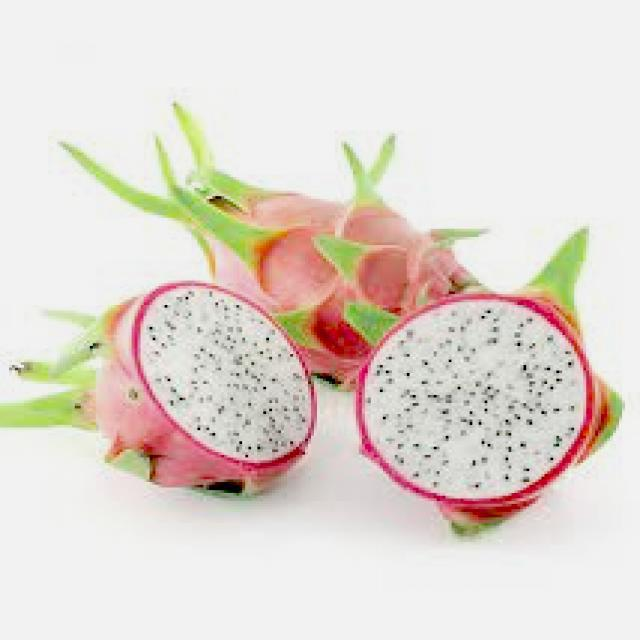trang: (53, 90, 481, 388), (346, 226, 632, 544), (0, 277, 320, 505)
